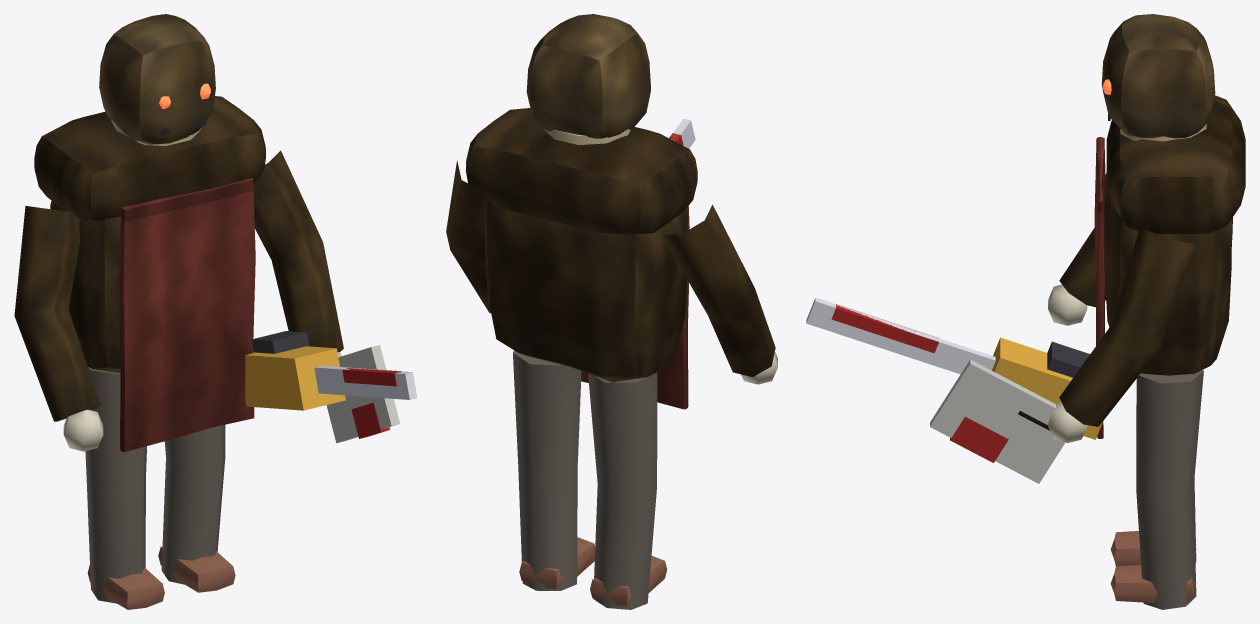
Rendered from butcher.glb.
The picture shows the model from 3 angles, left to right: view 1: azimuth 30°, elevation 25°; view 2: azimuth 150°, elevation 25°; view 3: azimuth 270°, elevation 25°; orthographic projection.
Visible parts, largest first — view 1: butcher; view 2: butcher; view 3: butcher.
Part boxes in pixels (x1,y1,x2,y2): butcher: (14, 14, 417, 609); butcher: (446, 14, 777, 609); butcher: (806, 14, 1245, 609).
Size of the model in its own units: 1.58 by 2.81 by 2.
15 materials, 4 textured.
